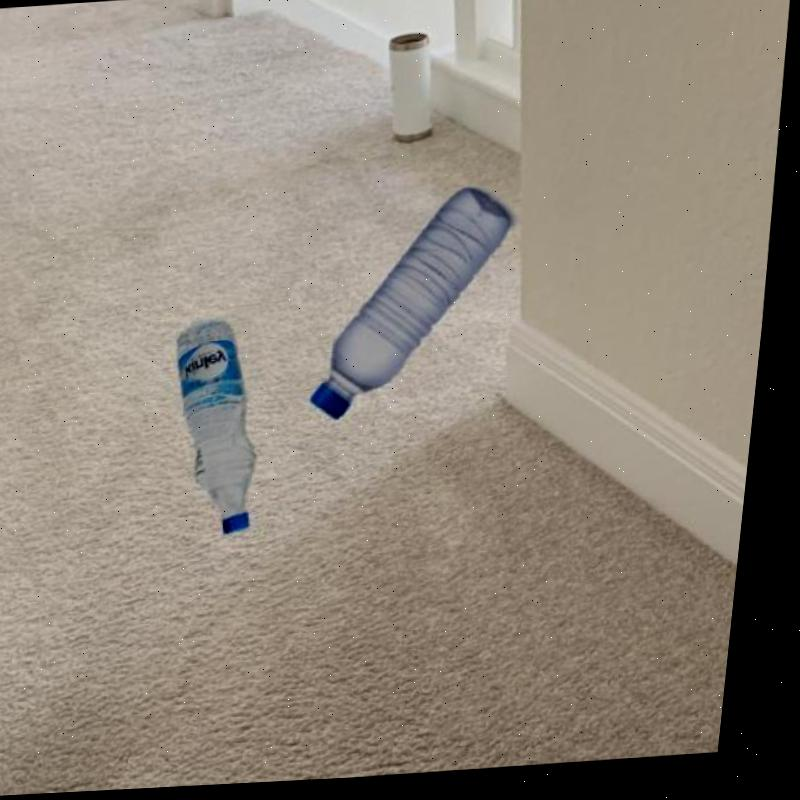botella: (311, 189, 523, 424), (166, 319, 277, 543)
